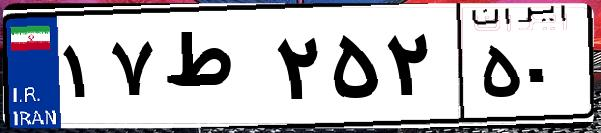0: (525, 38, 570, 115)
1: (57, 26, 110, 100)
2: (270, 28, 330, 110), (385, 28, 445, 110)
5: (330, 28, 385, 110), (475, 38, 525, 113)
7: (110, 28, 158, 98)
ط: (158, 20, 270, 120)
